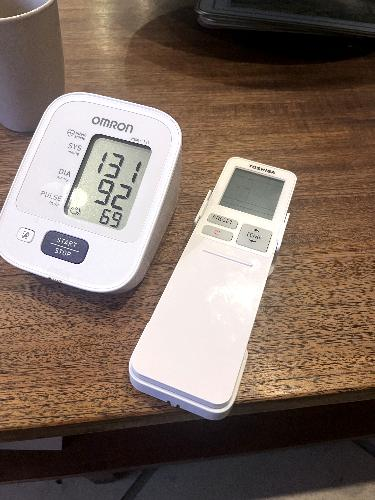bpm: (59, 124, 157, 239)
